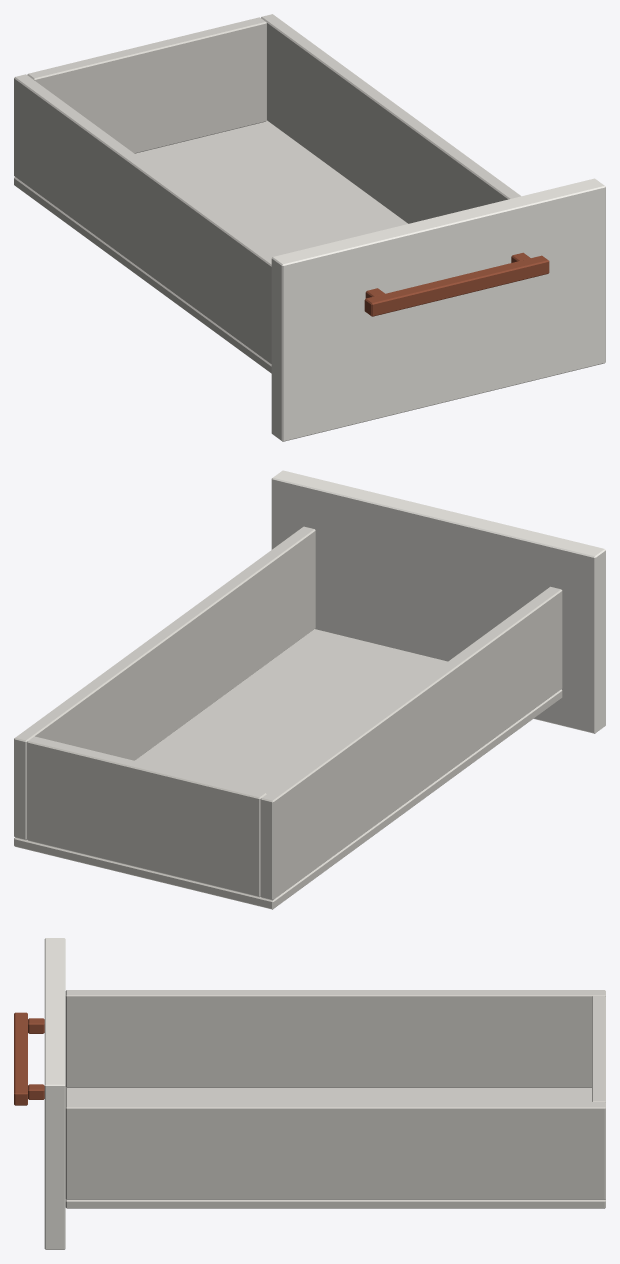
Rendered from kitchen_run_appliances_b5_top_drawer.glb.
The picture shows the model from 3 angles, top to bottom: view 1: azimuth 30°, elevation 25°; view 2: azimuth 150°, elevation 25°; view 3: azimuth 270°, elevation 25°; orthographic projection. The views are drawn at different scales.
Visible parts, largest first — view 1: kitchen_run_appliances_b5_top_drawer; view 2: kitchen_run_appliances_b5_top_drawer; view 3: kitchen_run_appliances_b5_top_drawer.
Boxes of the visible parts, left/top/right/bottom form: kitchen_run_appliances_b5_top_drawer: left=14, top=14, right=605, bottom=441; kitchen_run_appliances_b5_top_drawer: left=14, top=470, right=605, bottom=909; kitchen_run_appliances_b5_top_drawer: left=14, top=938, right=605, bottom=1249.
Bounding box in the file's own units: 0.297 × 0.1554 × 0.504.
